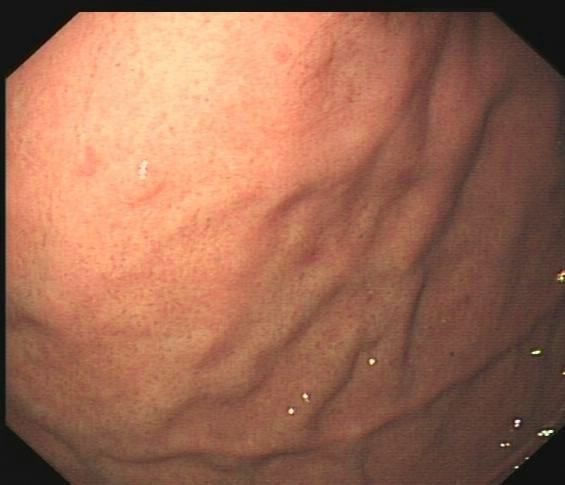Polyp: (105, 149, 171, 210)
